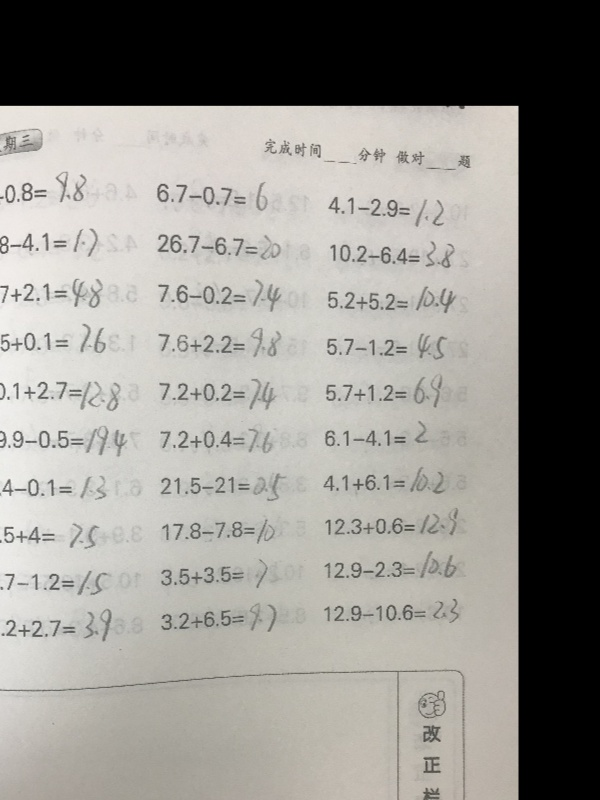equation: (312, 190, 469, 228), (0, 605, 138, 648), (154, 178, 311, 215), (146, 227, 303, 264), (142, 276, 299, 313), (143, 325, 300, 362), (140, 377, 297, 414), (142, 424, 299, 461), (143, 467, 300, 504), (141, 511, 298, 548), (142, 557, 299, 594), (140, 600, 297, 637), (318, 236, 464, 274), (316, 279, 462, 317), (314, 328, 460, 366), (310, 371, 456, 409), (308, 419, 454, 457), (314, 461, 460, 499), (317, 504, 463, 542), (321, 548, 467, 586), (319, 596, 465, 634), (0, 275, 142, 312), (0, 319, 137, 357), (0, 375, 137, 413), (0, 420, 137, 458), (0, 472, 144, 504), (0, 225, 121, 261), (0, 521, 134, 553), (0, 568, 134, 600), (0, 169, 93, 208)
